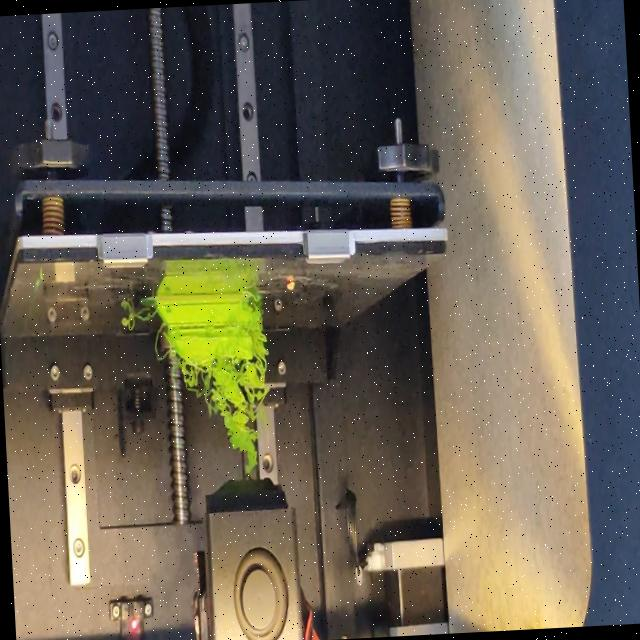spaghetti: (180, 357, 272, 476), (245, 287, 266, 359), (118, 311, 153, 334), (154, 327, 169, 362)
